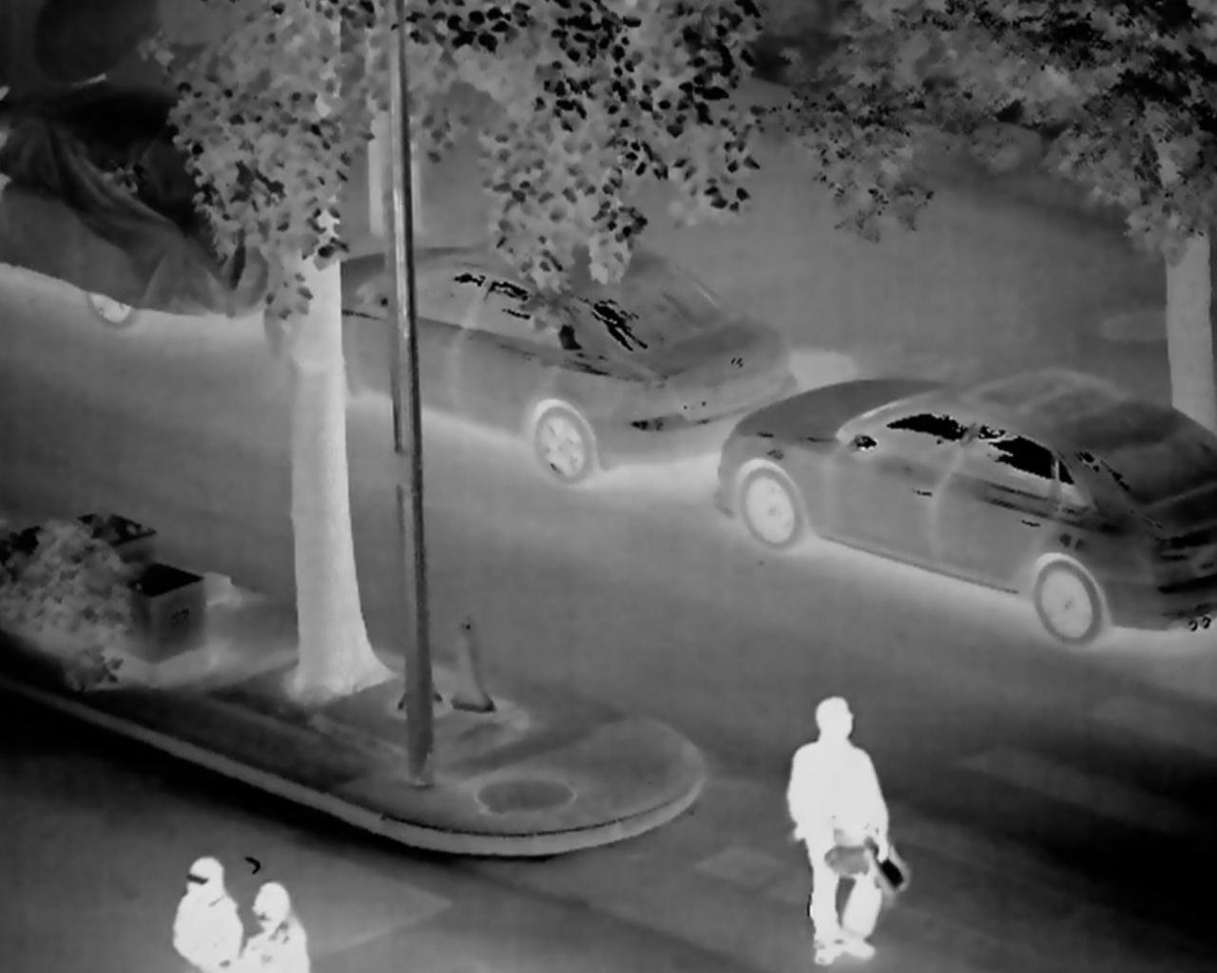person: (771, 686, 908, 973), (144, 838, 261, 973), (237, 867, 350, 973)
